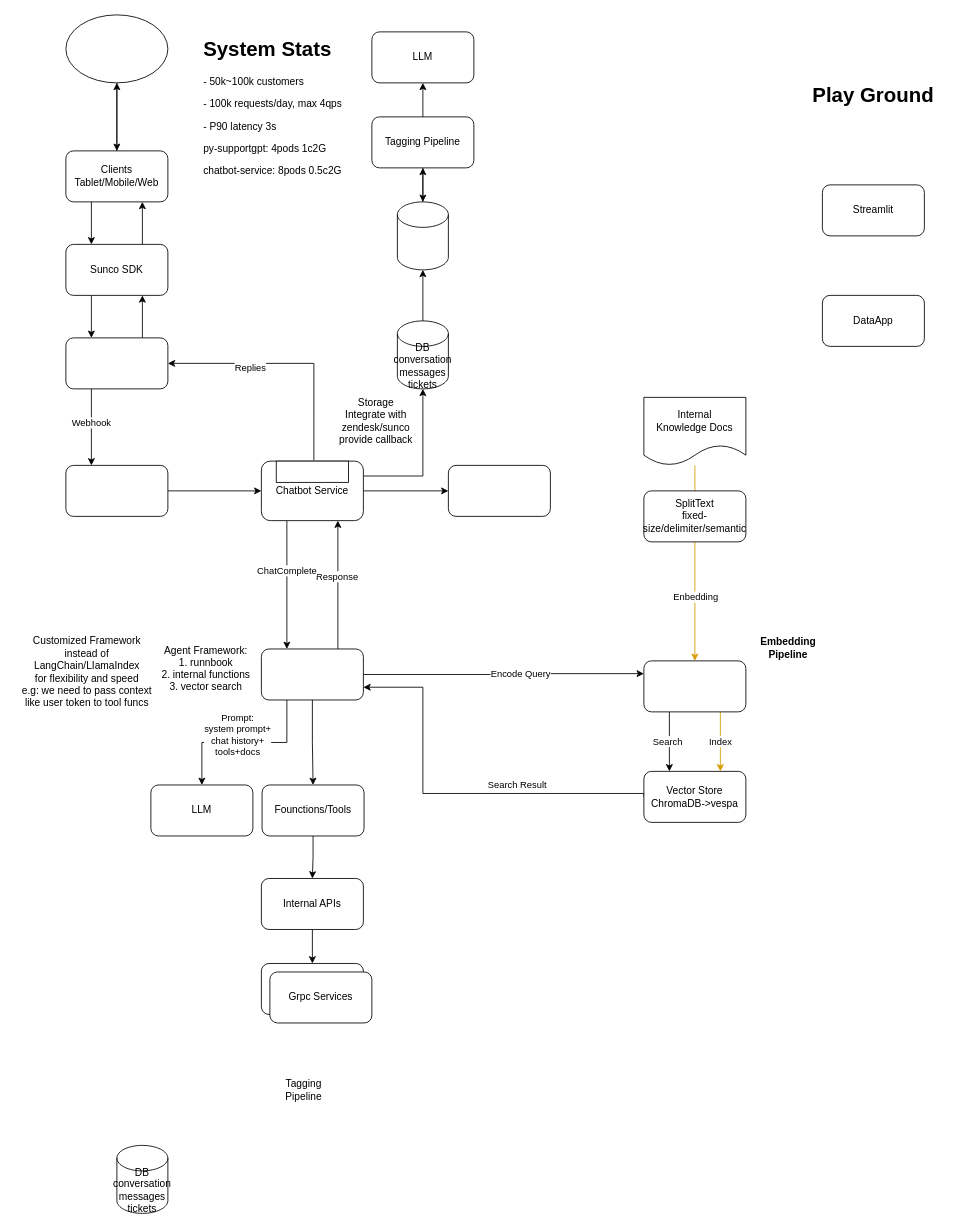
This 960x1229 diagram has some shape labels left out. The centre of each missing label's shape, as x and y in pixels:
Data WareHouse: [422,235]
Embedding Model text-embedding-ada-002: [694,686]
Ottergate API Gateway: [116,490]
Py-SupportGPT: [312,674]
Sunco Client: [311,471]
Sunco Server: [116,363]
User: [116,48]
Zendesk Ticket API: [499,490]
